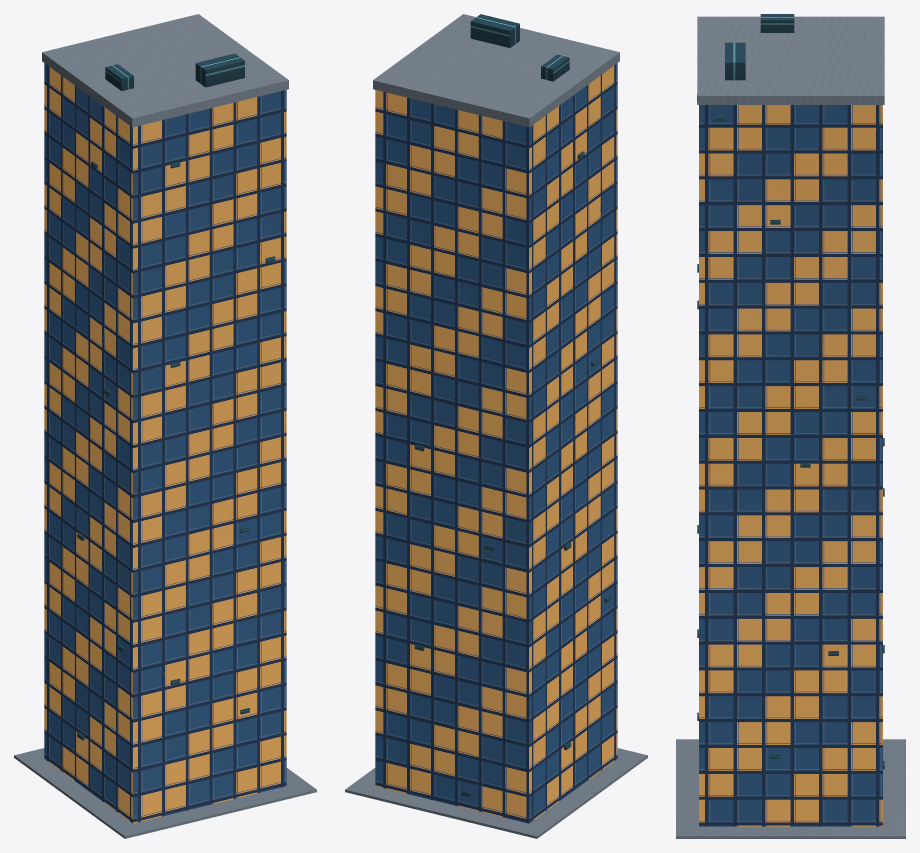
Rendered from housing-a.glb.
The picture shows the model from 3 angles, left to right: view 1: azimuth 30°, elevation 25°; view 2: azimuth 150°, elevation 25°; view 3: azimuth 270°, elevation 25°; orthographic projection. The views are drawn at different scales.
Visible parts, largest first — view 1: stk_generic_modernWindows_a.png__, stktex_generic_concreteA.png__, stk_emptyPanel_a.png__; view 2: stk_generic_modernWindows_a.png__, stktex_generic_concreteA.png__, stk_emptyPanel_a.png__; view 3: stk_generic_modernWindows_a.png__, stktex_generic_concreteA.png__, stk_emptyPanel_a.png__.
Boxes of the visible parts, box(x1,y1,x2,y2) form: stk_generic_modernWindows_a.png__: box(44, 63, 286, 823); stktex_generic_concreteA.png__: box(14, 14, 316, 838); stk_emptyPanel_a.png__: box(77, 53, 275, 740); stk_generic_modernWindows_a.png__: box(375, 63, 617, 823); stktex_generic_concreteA.png__: box(345, 14, 647, 838); stk_emptyPanel_a.png__: box(414, 14, 611, 796); stk_generic_modernWindows_a.png__: box(699, 105, 882, 826); stktex_generic_concreteA.png__: box(676, 16, 905, 838); stk_emptyPanel_a.png__: box(697, 14, 884, 769).
Size of the model in its own units: 89.76 by 324 by 89.76.
Materials: 3 (3 with a texture image).
